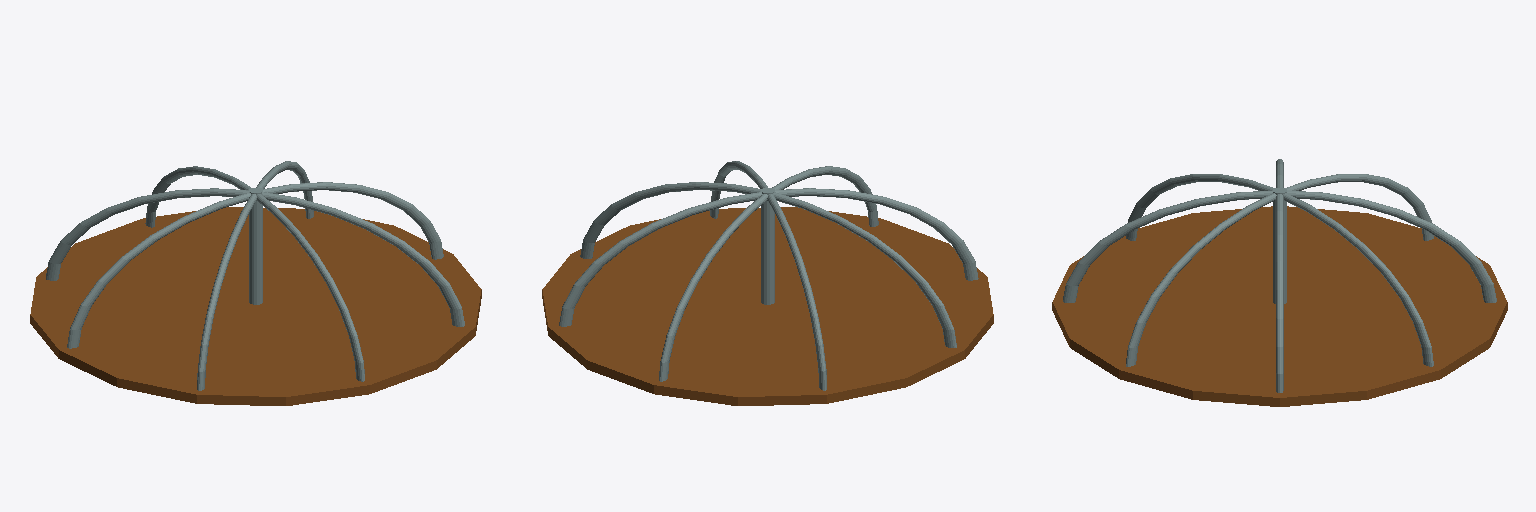
File: playground3.obj
3 views of the same model, side by side, from view 1: azimuth 30°, elevation 25°; view 2: azimuth 150°, elevation 25°; view 3: azimuth 270°, elevation 25° (orthographic).
Visible parts, largest first — view 1: gyr2, gyr1; view 2: gyr2, gyr1; view 3: gyr2, gyr1.
Boxes of the visible parts, <box> form: gyr2: <box>30,207,481,405</box>; gyr1: <box>46,161,464,390</box>; gyr2: <box>542,207,993,405</box>; gyr1: <box>559,161,978,390</box>; gyr2: <box>1052,206,1507,406</box>; gyr1: <box>1063,159,1496,392</box>.
Bounding box in the file's own units: 214 × 67.89 × 214.